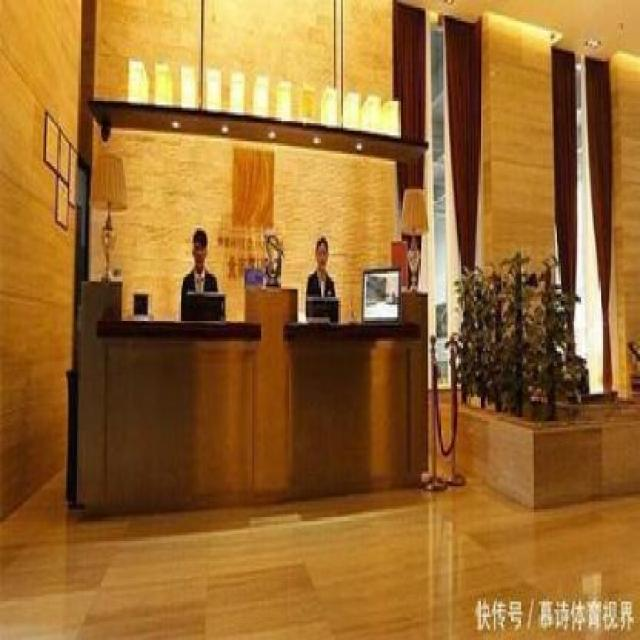frontdesk: (63, 269, 433, 530)
